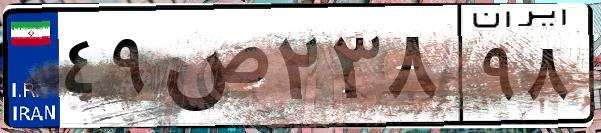2: (270, 28, 330, 110)
3: (330, 28, 385, 110)
4: (57, 26, 110, 100)
8: (385, 28, 445, 110), (525, 38, 570, 115)
9: (475, 38, 525, 113), (110, 28, 158, 98)
ص: (158, 20, 270, 120)
